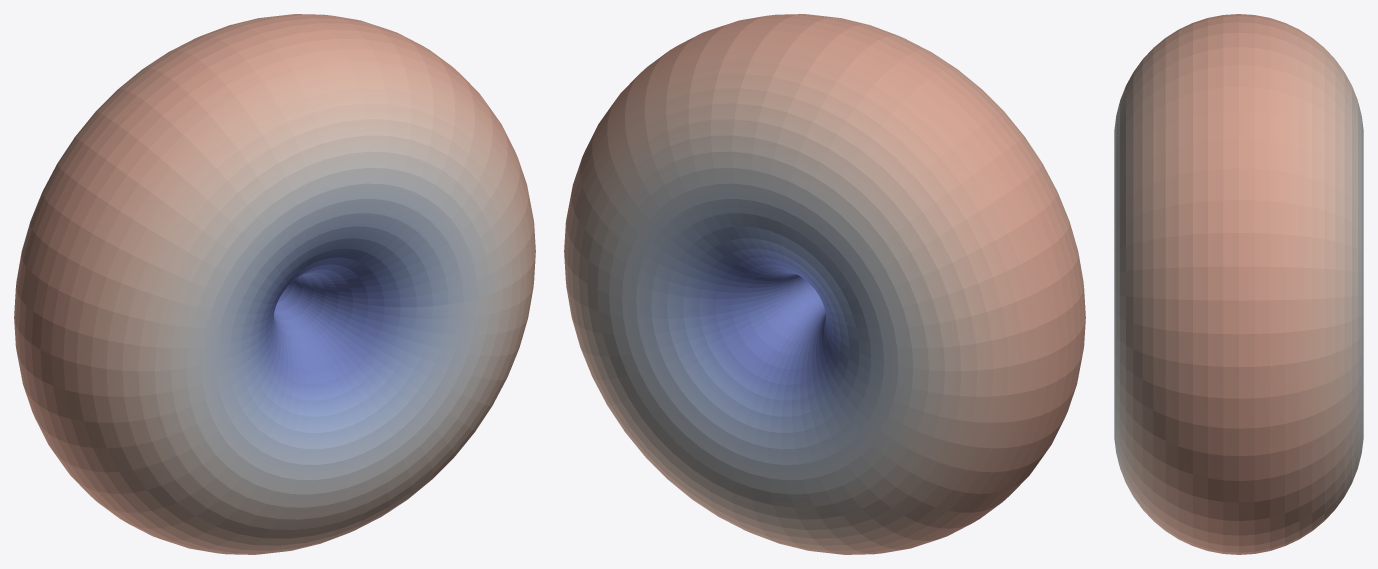
The picture shows the model from 3 angles, left to right: view 1: azimuth 30°, elevation 25°; view 2: azimuth 150°, elevation 25°; view 3: azimuth 270°, elevation 25°; orthographic projection. The views are drawn at different scales.
Visible parts, largest first — view 1: world; view 2: world; view 3: world.
Boxes of the visible parts, x1,y1,x2,y2 form: world: (14, 14, 535, 554); world: (564, 14, 1085, 554); world: (1114, 14, 1363, 554).
Bounding box in the file's own units: 21.07 × 21.03 × 9.71.
